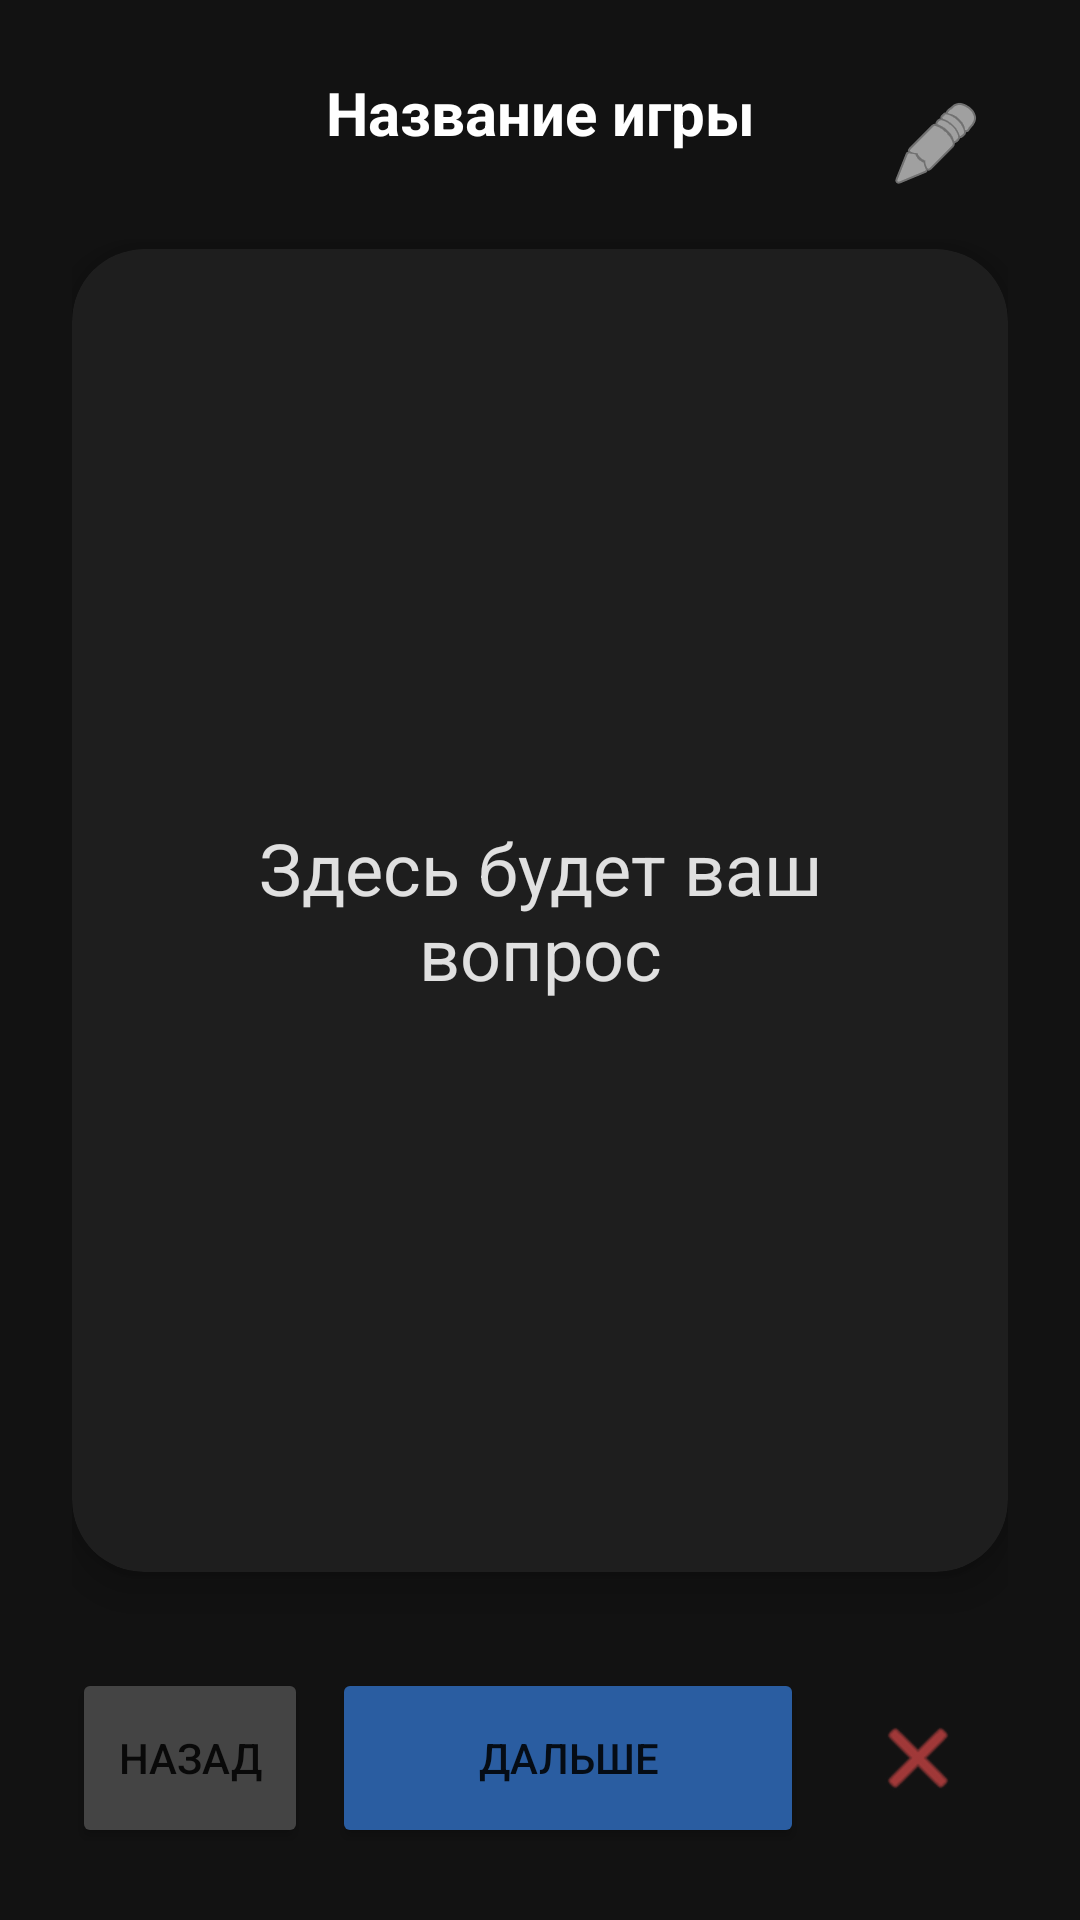

Icons on this 1080*1920 Android screen, each with the point to tap as (x,y):
close clear cancel: (918,1758)
edit: (935,143)
